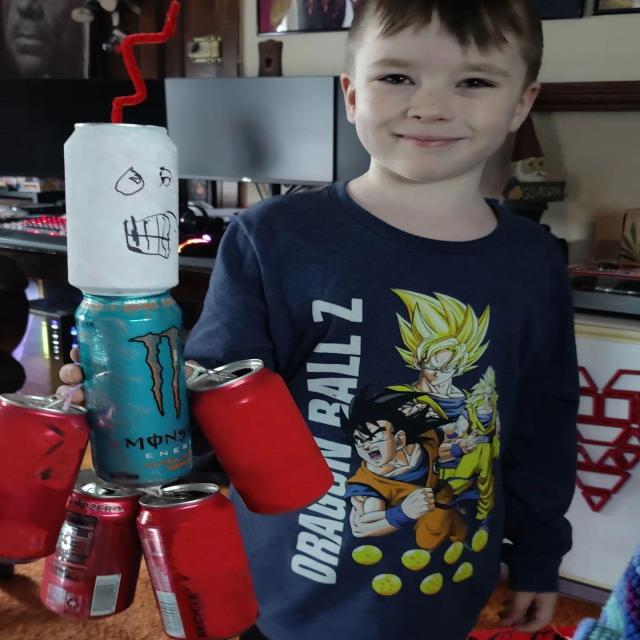tin can: (69, 292, 204, 486), (183, 354, 339, 519), (58, 117, 188, 300), (134, 481, 263, 640), (0, 386, 92, 562), (40, 476, 144, 622)
